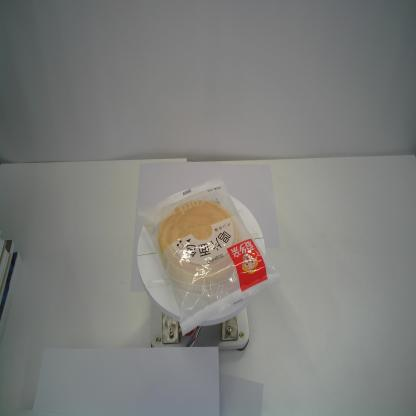Dessert: (140, 178, 284, 336)
